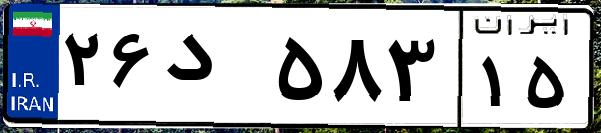1: (475, 38, 525, 113)
2: (57, 26, 110, 100)
3: (385, 28, 445, 110)
5: (270, 28, 330, 110), (525, 38, 570, 115)
6: (110, 28, 158, 98)
8: (330, 28, 385, 110)
د: (158, 20, 270, 120)
